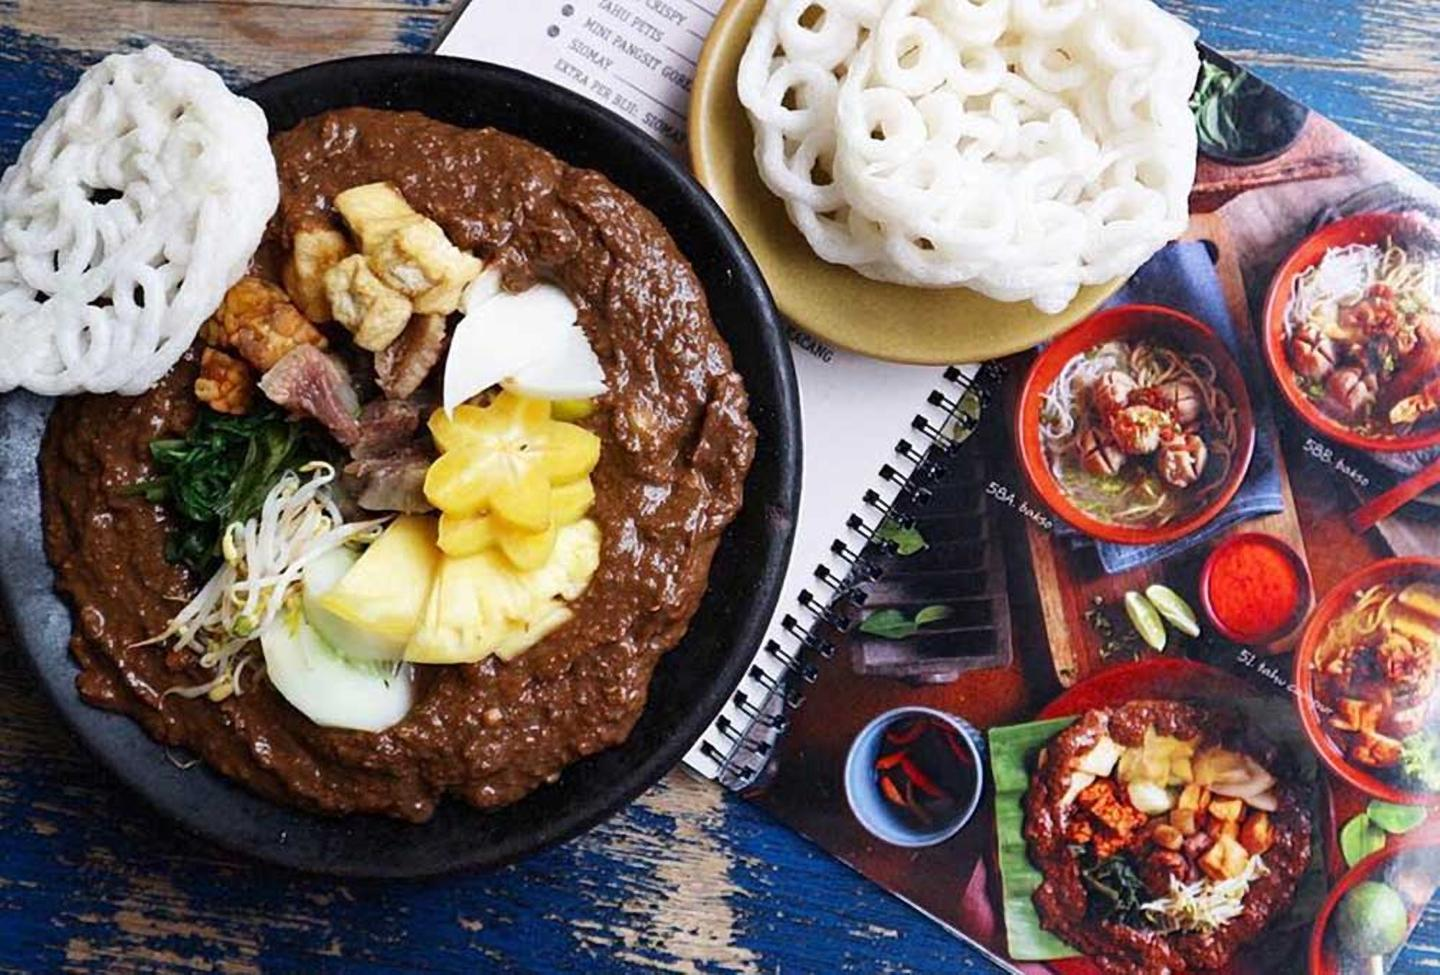rujak_cingur: (42, 104, 757, 828)
